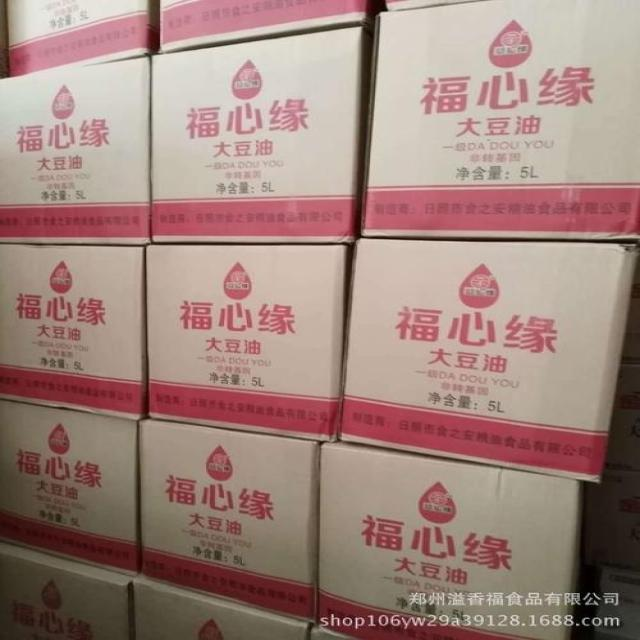box: (338, 237, 638, 487), (360, 0, 639, 240), (317, 440, 582, 639), (152, 26, 369, 244), (146, 243, 357, 443), (136, 418, 323, 622), (1, 57, 152, 245), (0, 244, 146, 418), (0, 401, 136, 575), (7, 0, 157, 78), (133, 575, 314, 639), (159, 0, 377, 51)
